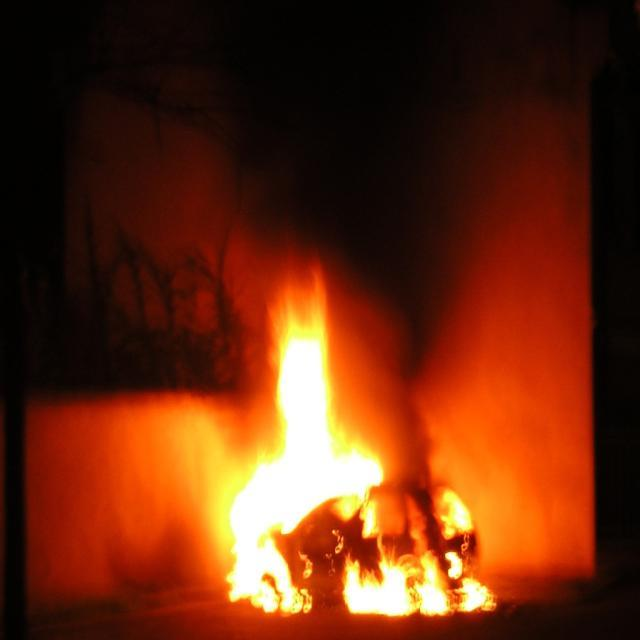Fire: (279, 324, 330, 502), (231, 469, 279, 597), (355, 566, 486, 610)
